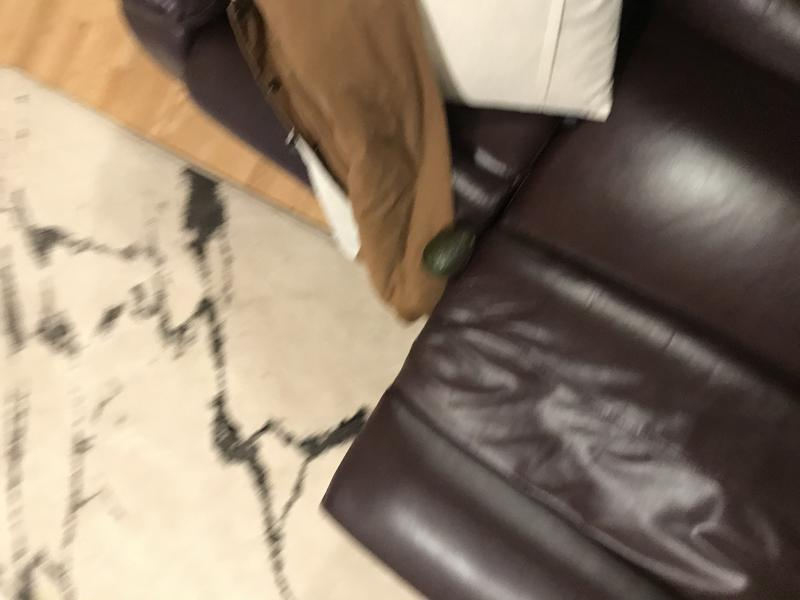avocado: (412, 206, 486, 288)
